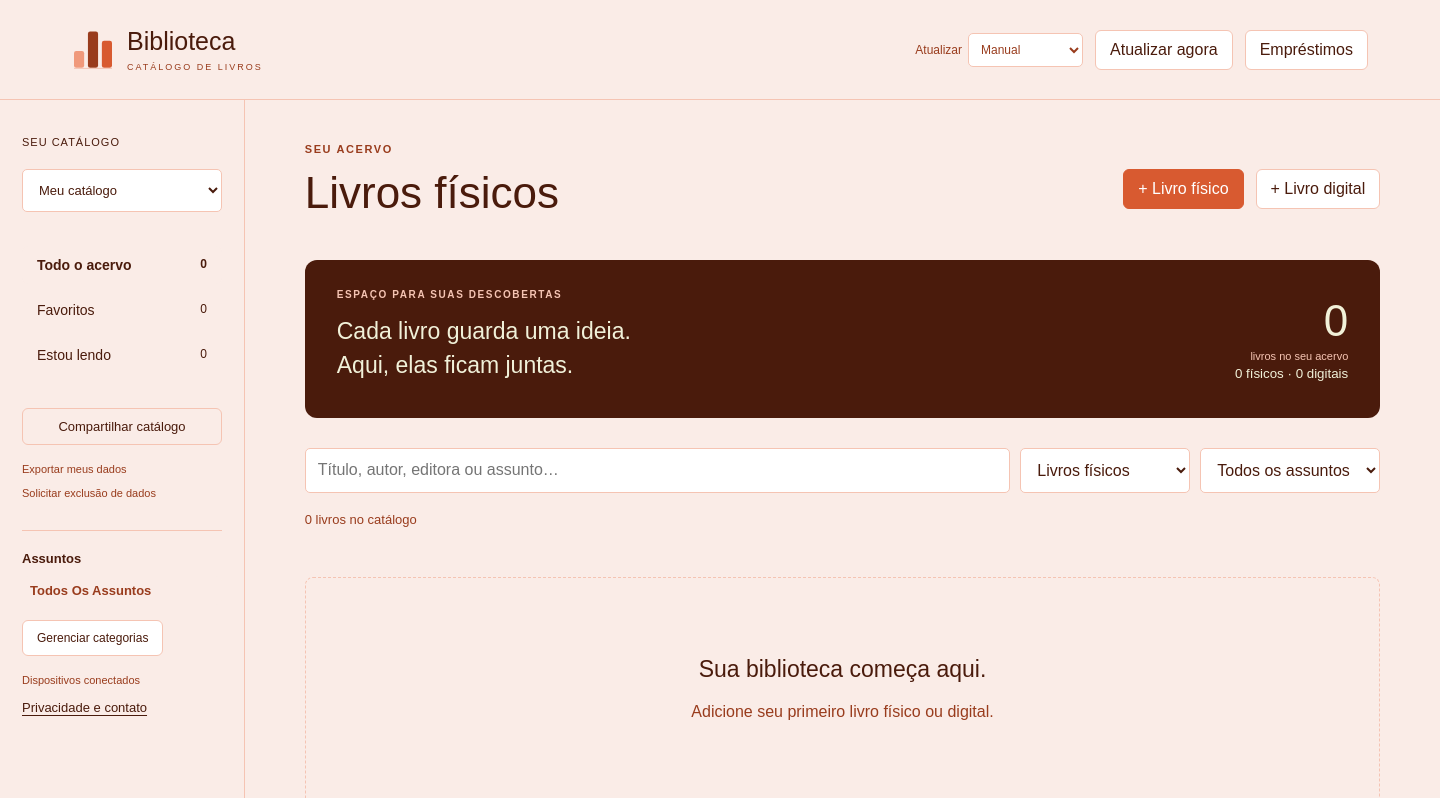
catálogo web › remove livro desmarcado do filtro de leitura
This screenshot has width=1440, height=798.
Expected: the button "+ Livro digital" is shown, [1256,169,1380,209]
Select "Livros digitais" in the dropdown named "Tipo de livro" at point(1105, 470), box [1020,448,1190,493]
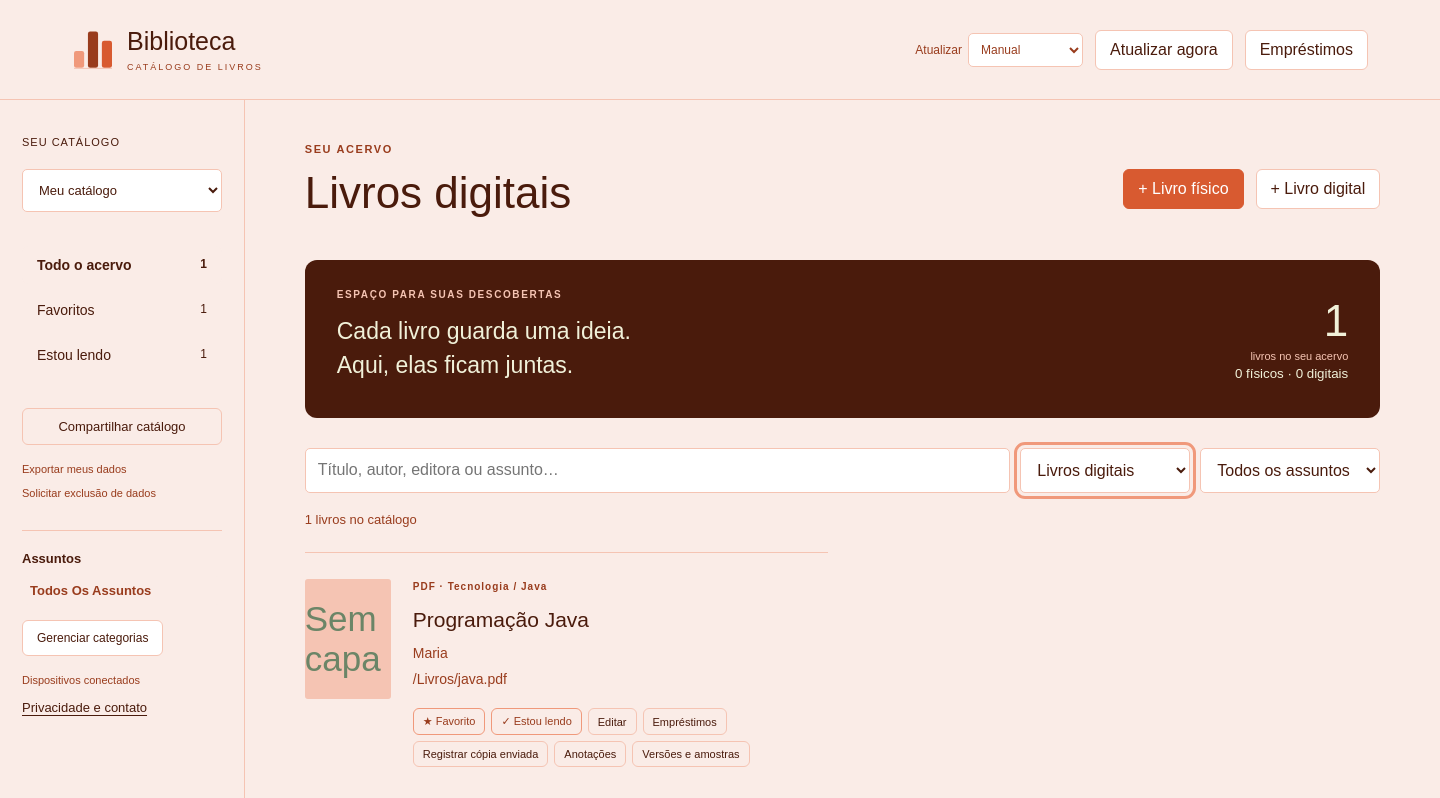
Expected: the heading "Programação Java" is shown, [413,608,589,631]
Click the button named "Estou lendo1".
click(122, 355)  # box [22,336,222,374]
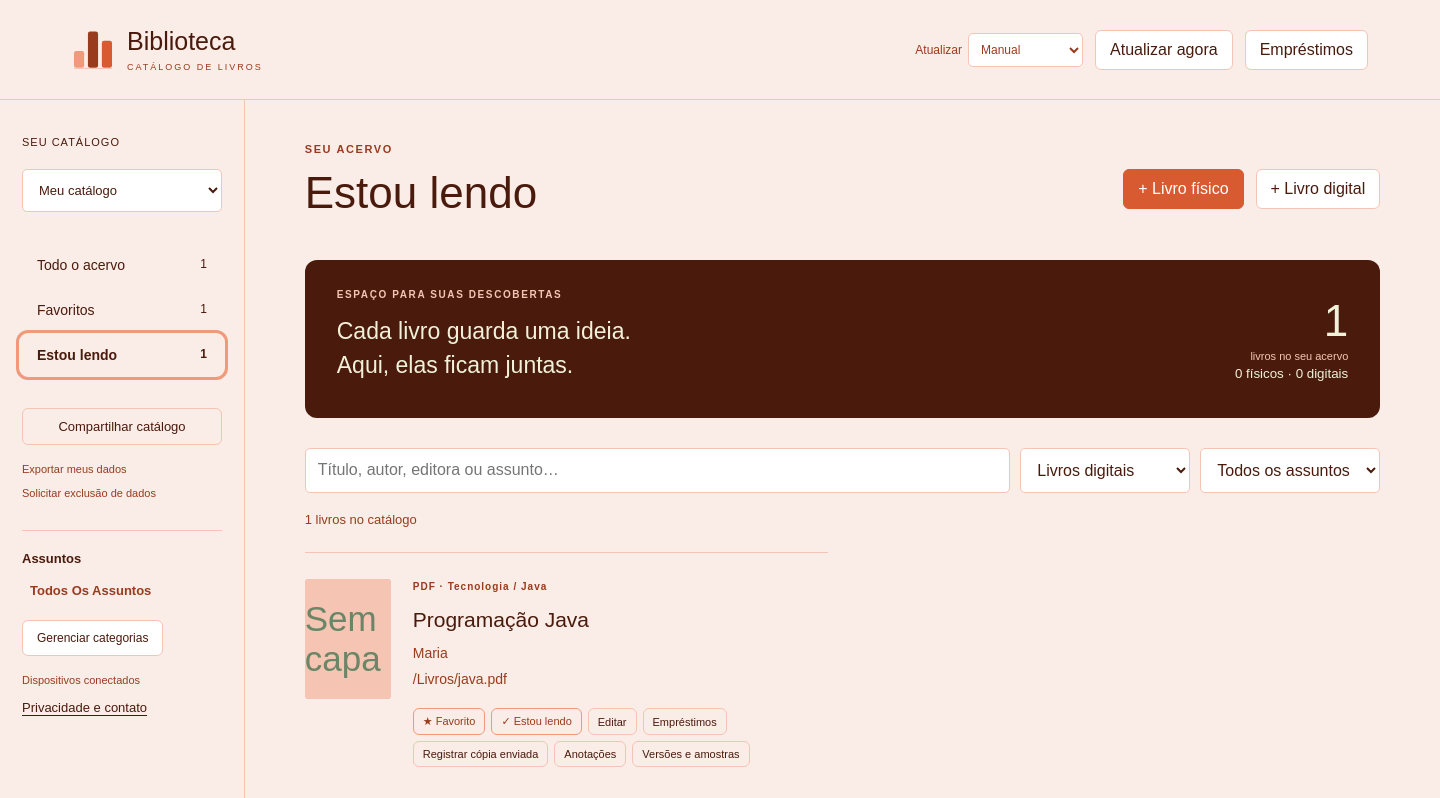
Click the button "✓ Estou lendo".
click(537, 722)  # box [491,708,582,735]
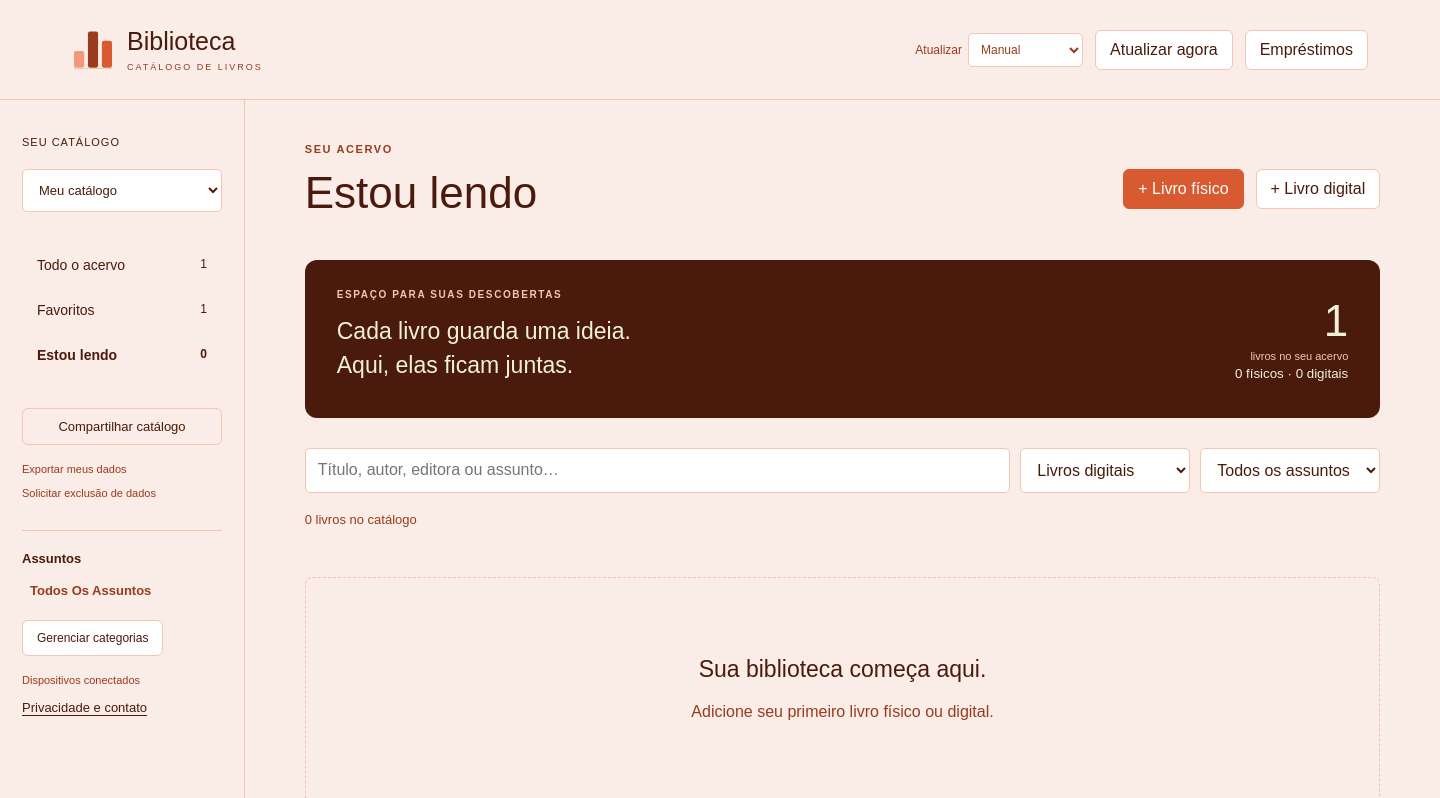
Expected: the heading "Programação Java" is gone
